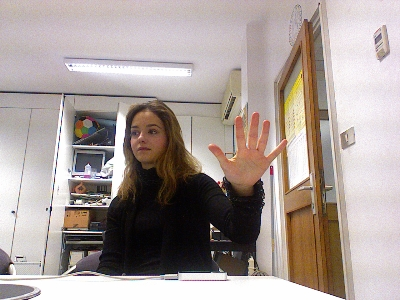布: (206, 110, 288, 189)
